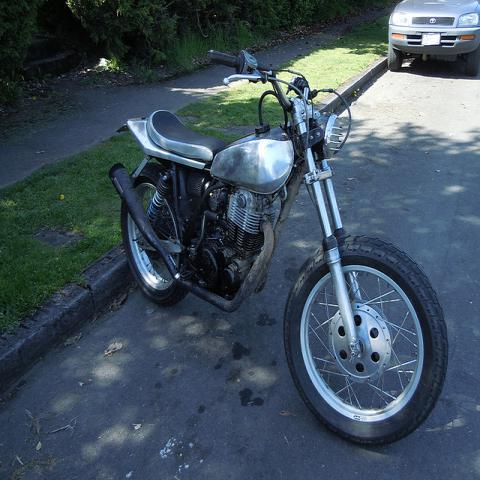car: (386, 1, 480, 76)
motorcycle: (106, 46, 451, 446)
